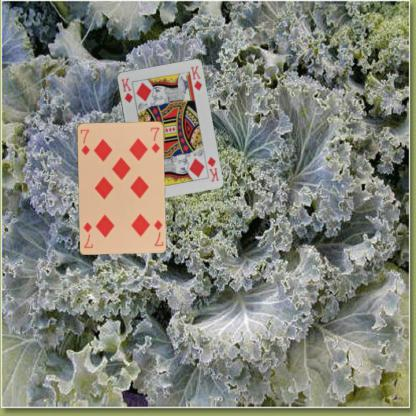7d: (77, 127, 91, 156), (151, 217, 164, 247)
Kd: (118, 75, 134, 104), (205, 154, 220, 183)
